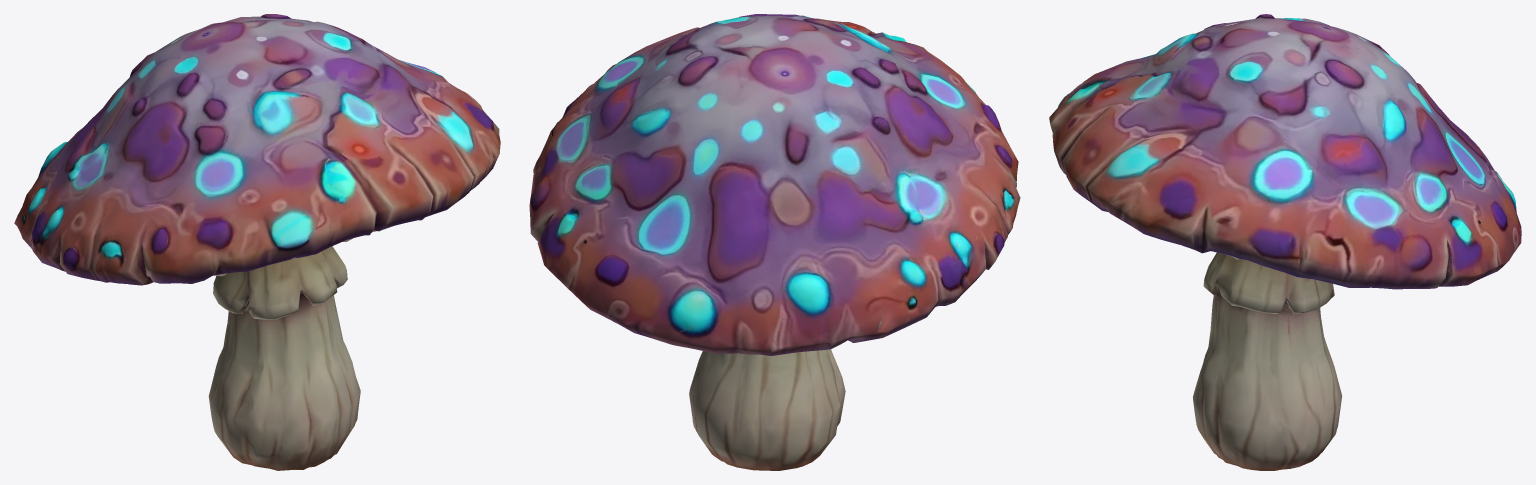
The model's file is tree_mushroom.glb.
3 views of the same model, side by side, from view 1: azimuth 30°, elevation 25°; view 2: azimuth 150°, elevation 25°; view 3: azimuth 270°, elevation 25° (orthographic). The views are drawn at different scales.
Parts seen in each view (by area): view 1: Mesh1.0; view 2: Mesh1.0; view 3: Mesh1.0.
Part boxes in pixels (x1,y1,x2,y2): Mesh1.0: (14,14,500,470); Mesh1.0: (529,14,1020,470); Mesh1.0: (1049,14,1521,470).
Size of the model in its own units: 1.91 by 1.84 by 1.91.
Materials: 1 (1 with a texture image).
